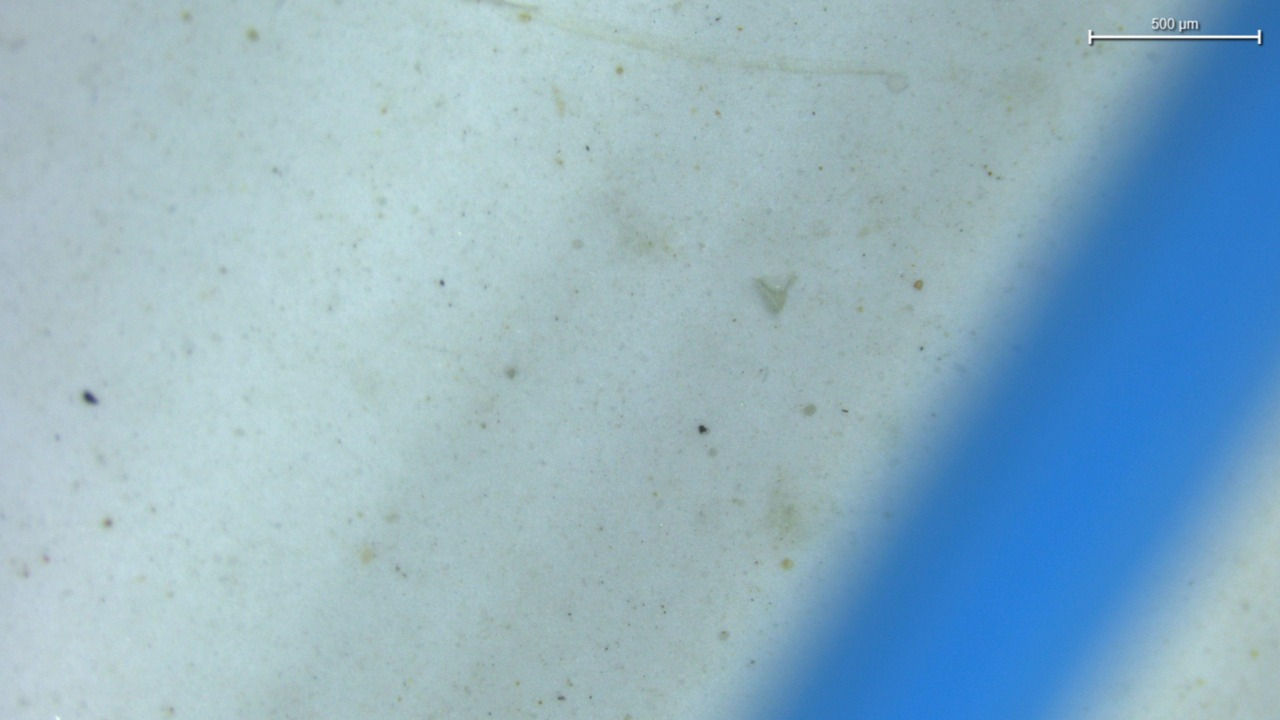microplastic_fragment: (754, 274, 797, 316)
